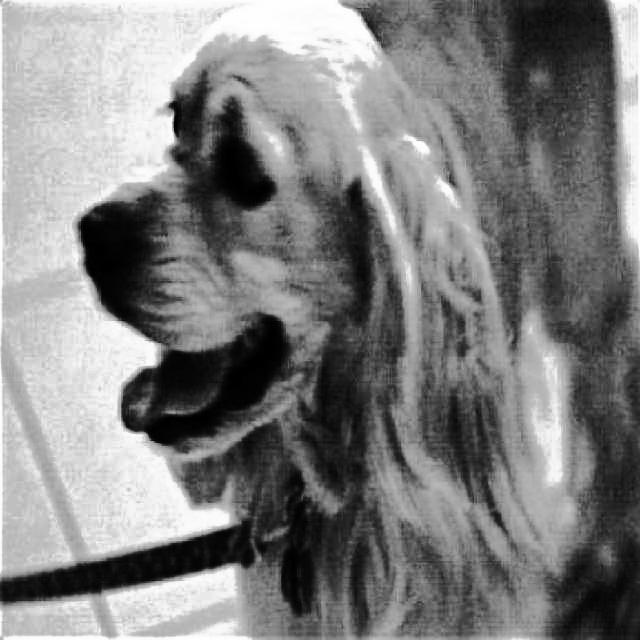Dog: (72, 0, 623, 640)
